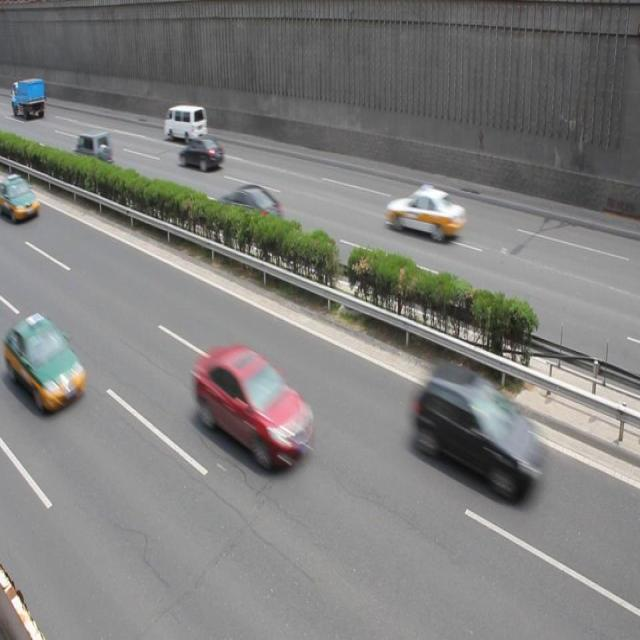car: (415, 358, 543, 501), (192, 345, 314, 469), (10, 312, 87, 417), (385, 182, 466, 242), (215, 180, 284, 237), (1, 172, 41, 223), (70, 132, 114, 174), (177, 135, 225, 171)
truck: (163, 107, 207, 140)
